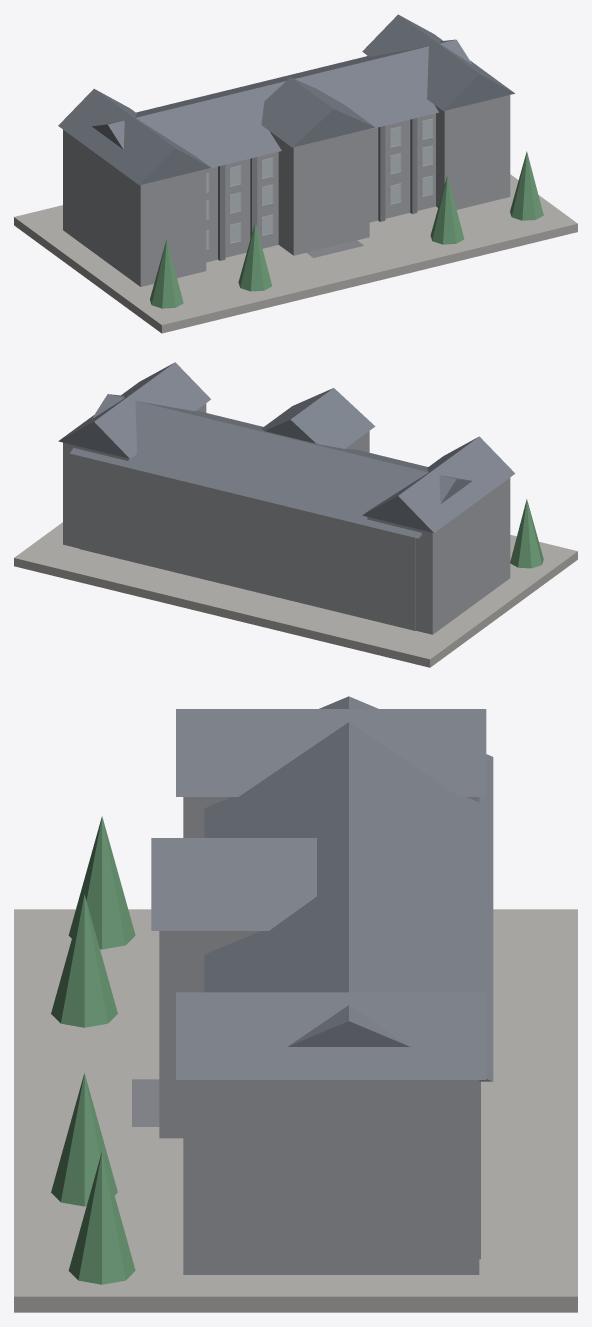
The model's file is lm_49_phan_vien_sinh_hoc_tay_nguyen_stone_castle.glb.
3 renders of one model, top to bottom at view 1: azimuth 30°, elevation 25°; view 2: azimuth 150°, elevation 25°; view 3: azimuth 270°, elevation 25°, orthographic. The views are drawn at different scales.
Visible parts, largest first — view 1: lm_49_phan_vien_sinh_hoc_tay_nguyen_stone_castle; view 2: lm_49_phan_vien_sinh_hoc_tay_nguyen_stone_castle; view 3: lm_49_phan_vien_sinh_hoc_tay_nguyen_stone_castle.
Boxes of the visible parts, x1,y1,x2,y2 form: lm_49_phan_vien_sinh_hoc_tay_nguyen_stone_castle: (14, 14, 577, 333); lm_49_phan_vien_sinh_hoc_tay_nguyen_stone_castle: (14, 362, 577, 667); lm_49_phan_vien_sinh_hoc_tay_nguyen_stone_castle: (14, 696, 577, 1312).
Bounding box in the file's own units: 52 × 17.6 × 32.
